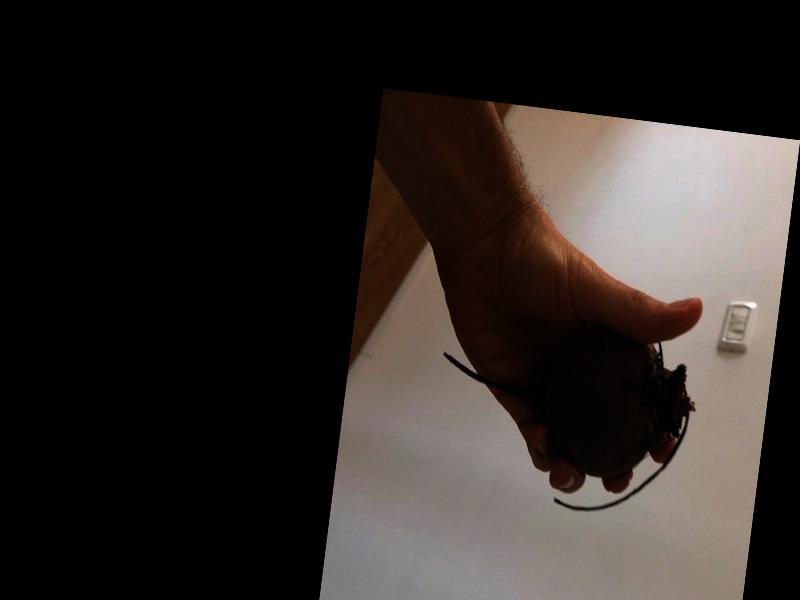Beet: (426, 313, 702, 524)
